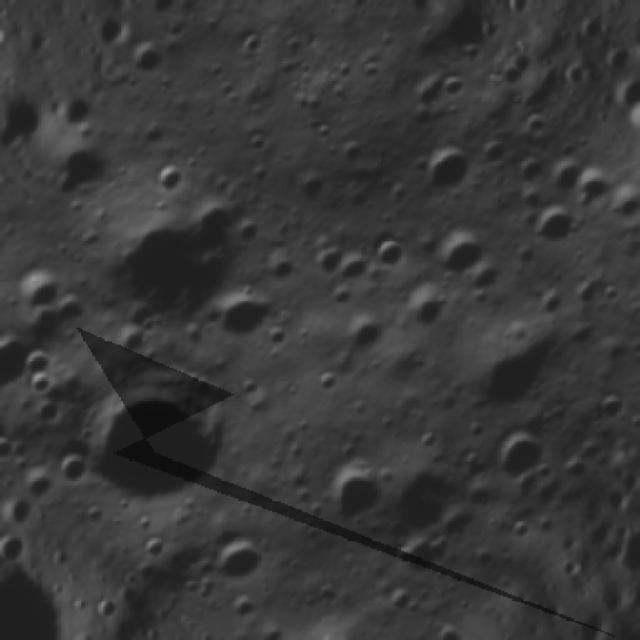crater: (67, 155, 276, 368), (53, 327, 259, 533), (454, 323, 561, 432), (374, 451, 469, 546), (308, 447, 394, 535), (404, 127, 490, 213), (474, 412, 558, 498), (200, 275, 282, 357), (33, 127, 115, 208), (201, 518, 279, 597), (422, 216, 492, 287), (4, 253, 73, 322), (522, 198, 584, 262), (388, 526, 448, 586), (390, 279, 450, 339), (0, 320, 40, 402), (44, 282, 101, 338), (120, 31, 174, 87), (567, 155, 621, 211), (459, 253, 513, 307), (592, 173, 640, 233), (541, 147, 594, 201), (103, 316, 155, 370), (337, 308, 389, 361), (289, 611, 383, 640), (362, 228, 412, 277), (43, 445, 92, 493), (142, 154, 190, 203), (305, 236, 352, 284), (375, 578, 422, 625), (303, 360, 349, 406), (476, 132, 522, 178), (262, 247, 307, 293), (225, 209, 270, 254), (591, 386, 635, 432), (287, 163, 330, 208), (0, 401, 26, 473), (13, 340, 55, 383), (515, 105, 556, 146), (333, 130, 373, 172), (553, 450, 593, 490), (258, 318, 298, 358), (511, 151, 551, 191), (230, 366, 268, 403), (322, 277, 360, 314), (22, 464, 58, 502), (158, 12, 194, 50), (336, 250, 372, 287), (137, 528, 172, 566), (233, 25, 269, 61), (23, 365, 57, 400), (426, 615, 469, 640), (434, 71, 466, 103), (0, 431, 18, 466), (177, 0, 223, 5), (634, 284, 640, 322)
